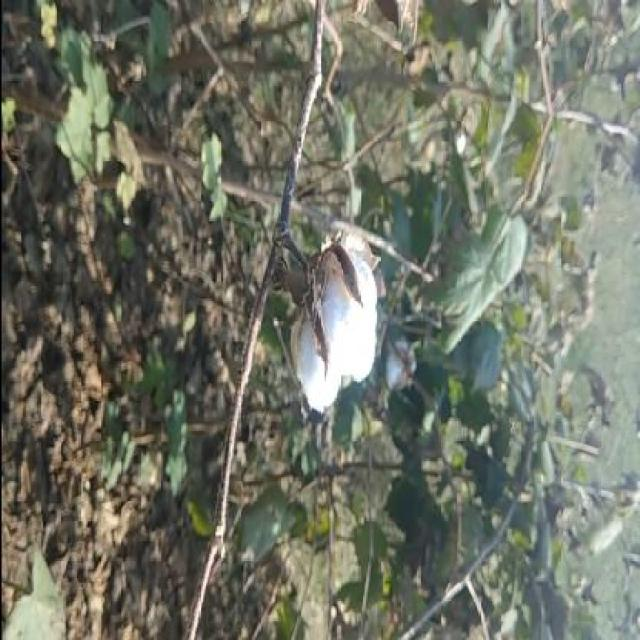cotton_ready: (254, 194, 392, 452)
